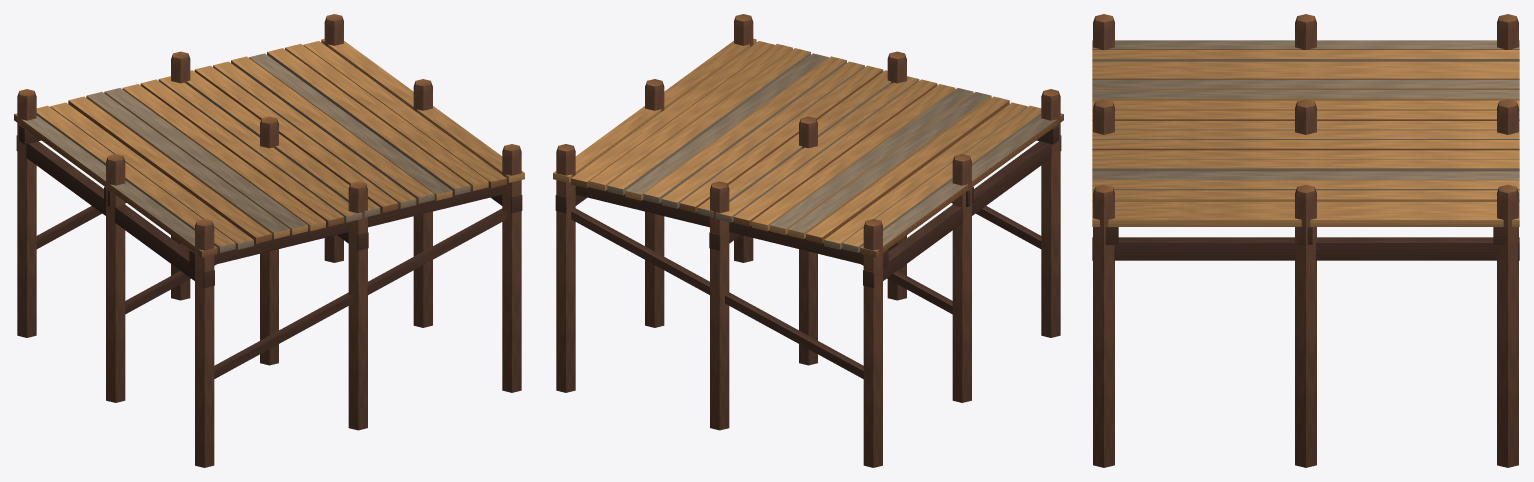
Rendered from dock_platform_01.glb.
The picture shows the model from 3 angles, left to right: view 1: azimuth 30°, elevation 25°; view 2: azimuth 150°, elevation 25°; view 3: azimuth 270°, elevation 25°; orthographic projection. The views are drawn at different scales.
Visible parts, largest first — view 1: dock_platform_01; view 2: dock_platform_01; view 3: dock_platform_01.
Boxes of the visible parts, x1,y1,x2,y2 form: dock_platform_01: [14, 14, 524, 467]; dock_platform_01: [553, 14, 1063, 467]; dock_platform_01: [1092, 14, 1519, 467].
Size of the model in its own units: 4.41 by 3.1 by 4.39.
1 material, 1 textured.
